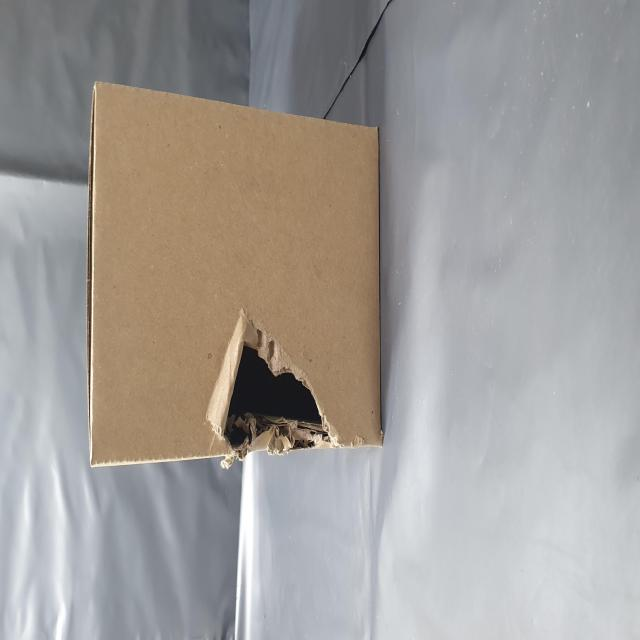damaged: (100, 378, 187, 609)
